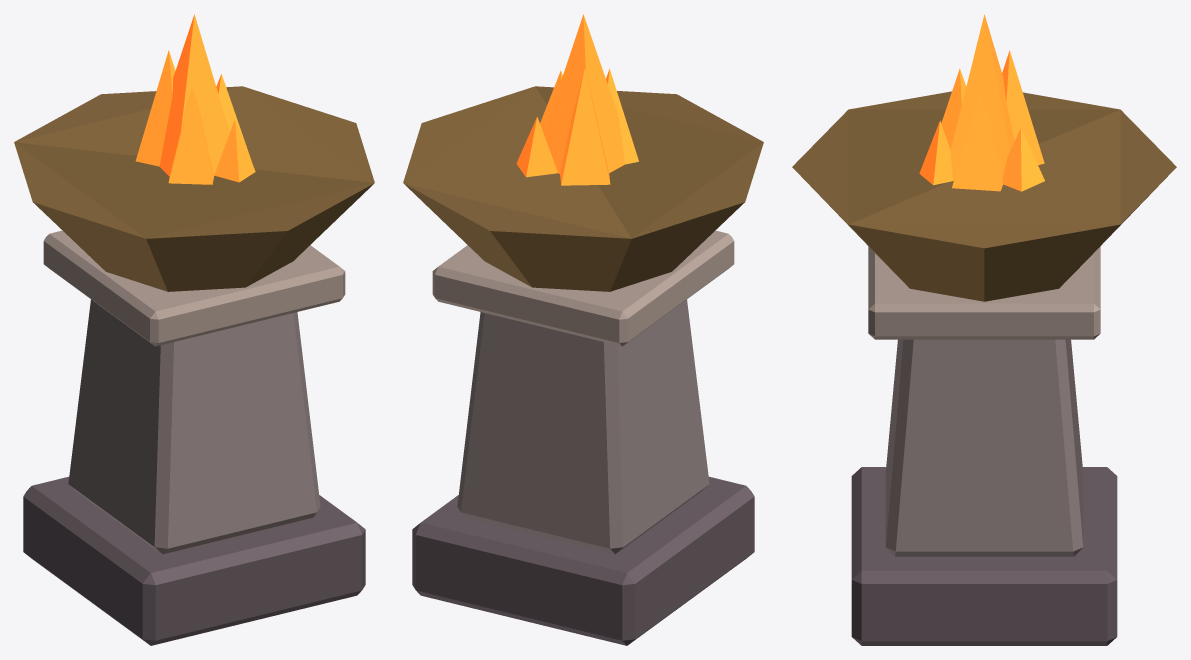
Rendered from Brazier_Standing.fbx.
3 renders of one model, left to right at view 1: azimuth 30°, elevation 25°; view 2: azimuth 150°, elevation 25°; view 3: azimuth 270°, elevation 25°, orthographic. The views are drawn at different scales.
Parts seen in each view (by area): view 1: Brazier_Standing; view 2: Brazier_Standing; view 3: Brazier_Standing.
Part boxes in pixels (left/top/right/bottom): Brazier_Standing: left=14, top=14, right=374, bottom=645; Brazier_Standing: left=403, top=14, right=763, bottom=645; Brazier_Standing: left=792, top=14, right=1176, bottom=645.
Bounding box in the file's own units: 1.16 × 1.93 × 1.16.
